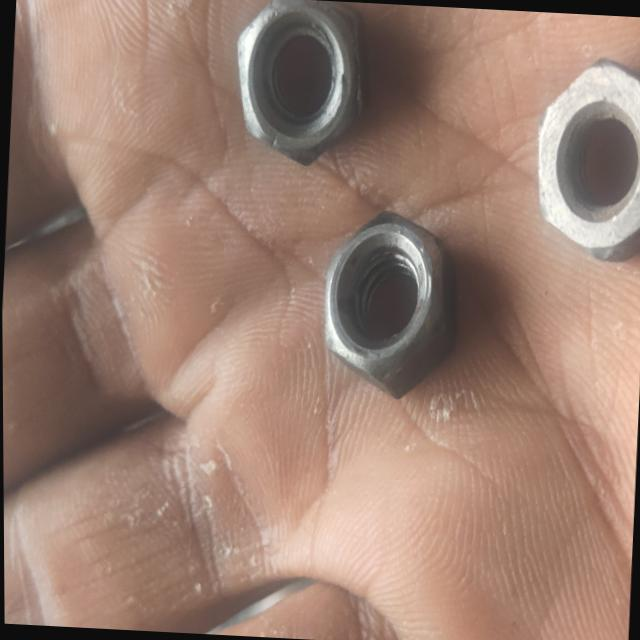disinfected nut: (324, 210, 456, 397), (537, 58, 640, 259), (237, 0, 363, 163)
